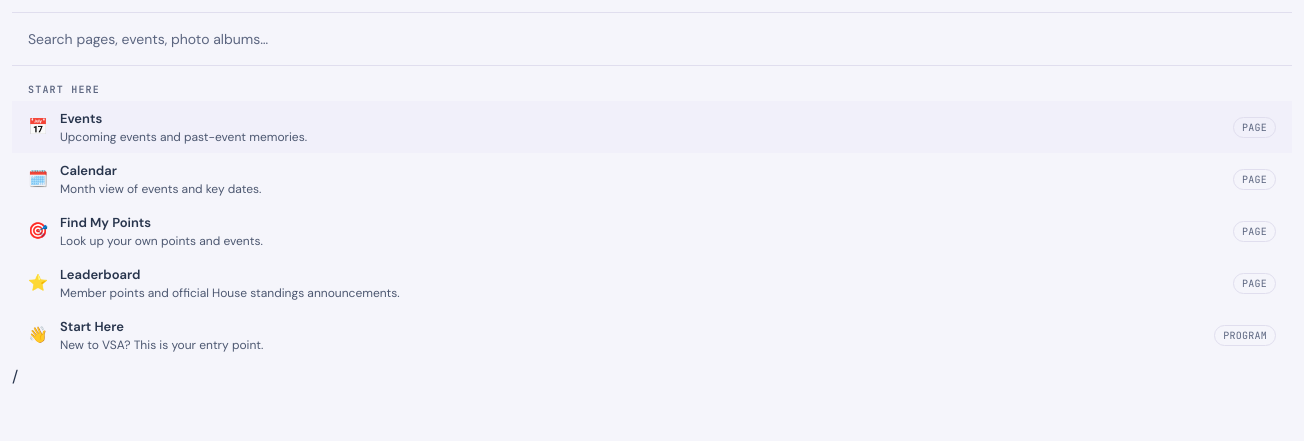
PublicSearchPanel (dialog variant) › shows a useful empty state with next steps, not a dead end
Type "zzzzqqq" into the dropdown at (652, 39), box [12,12,1292,66]
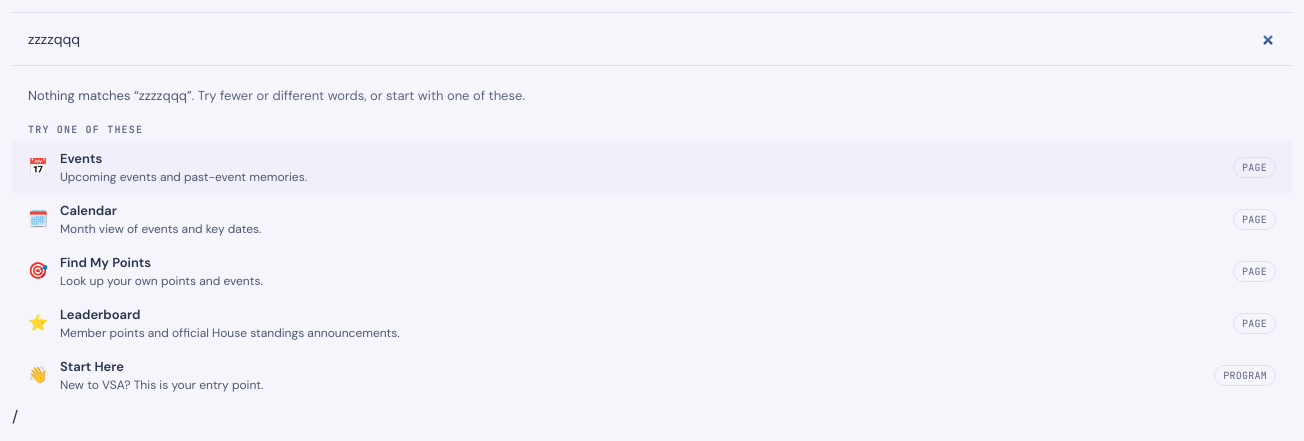
Check: the option "📅 Events Upcoming events and past-event memories. Page" is shown, box [12,141,1292,193]
Check: the text "Nothing matches" shows "zzzzqqq", box [139,87,187,104]
Check: the text "Try one of these" is shown, box [28,123,143,136]
Note: Keyboard still works from the empty state.
Press Enter
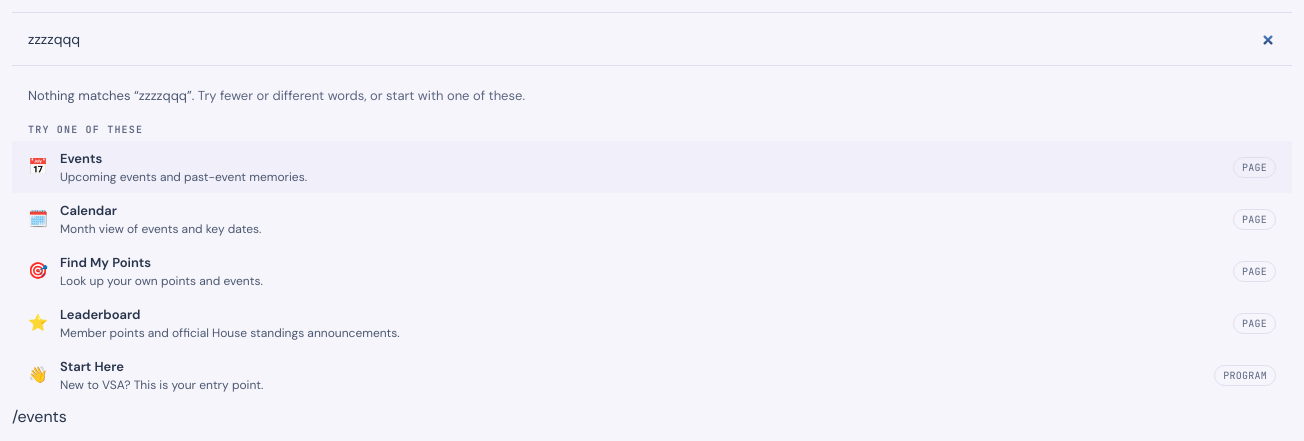
Check: the element with test id "location" no longer shows "/"
